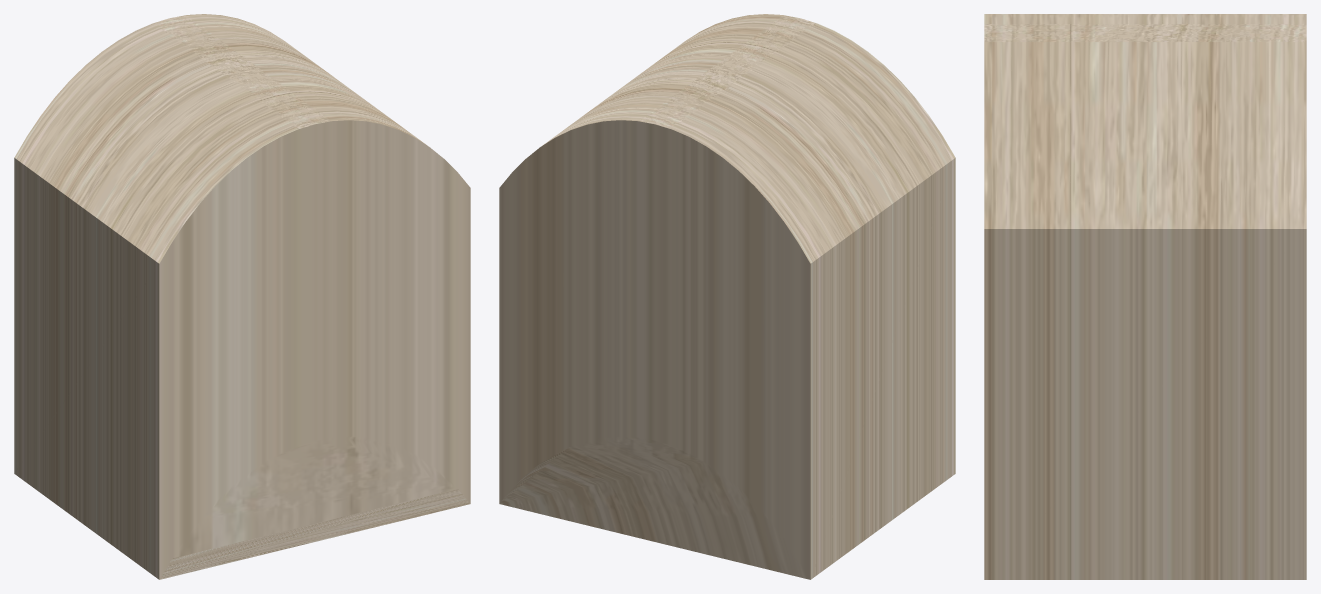
The model's file is modeling13.glb.
The picture shows the model from 3 angles, left to right: view 1: azimuth 30°, elevation 25°; view 2: azimuth 150°, elevation 25°; view 3: azimuth 270°, elevation 25°; orthographic projection. The views are drawn at different scales.
Visible parts, largest first — view 1: 큐브.002; view 2: 큐브.002; view 3: 큐브.002.
Boxes of the visible parts, box(x1,y1,x2,y2) form: 큐브.002: box(14, 14, 470, 579); 큐브.002: box(499, 14, 955, 579); 큐브.002: box(984, 14, 1306, 579).
Bounding box in the file's own units: 1.52 × 1.95 × 1.22.
Materials: 1 (1 with a texture image).
